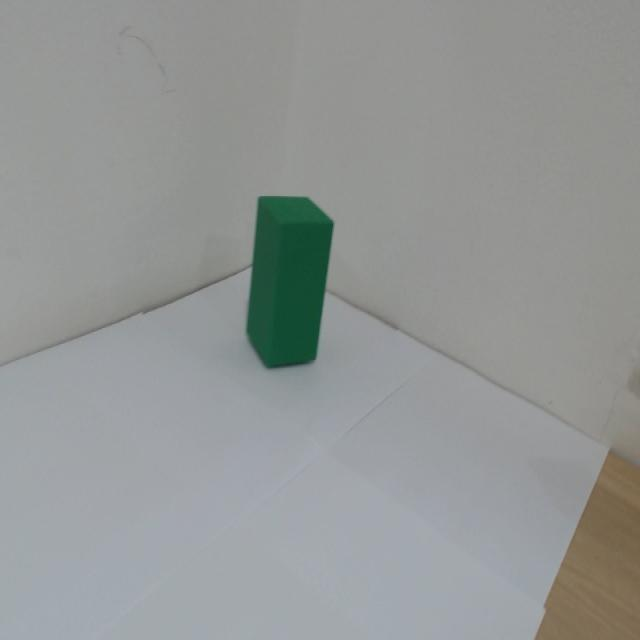cube: (244, 180, 355, 392)
